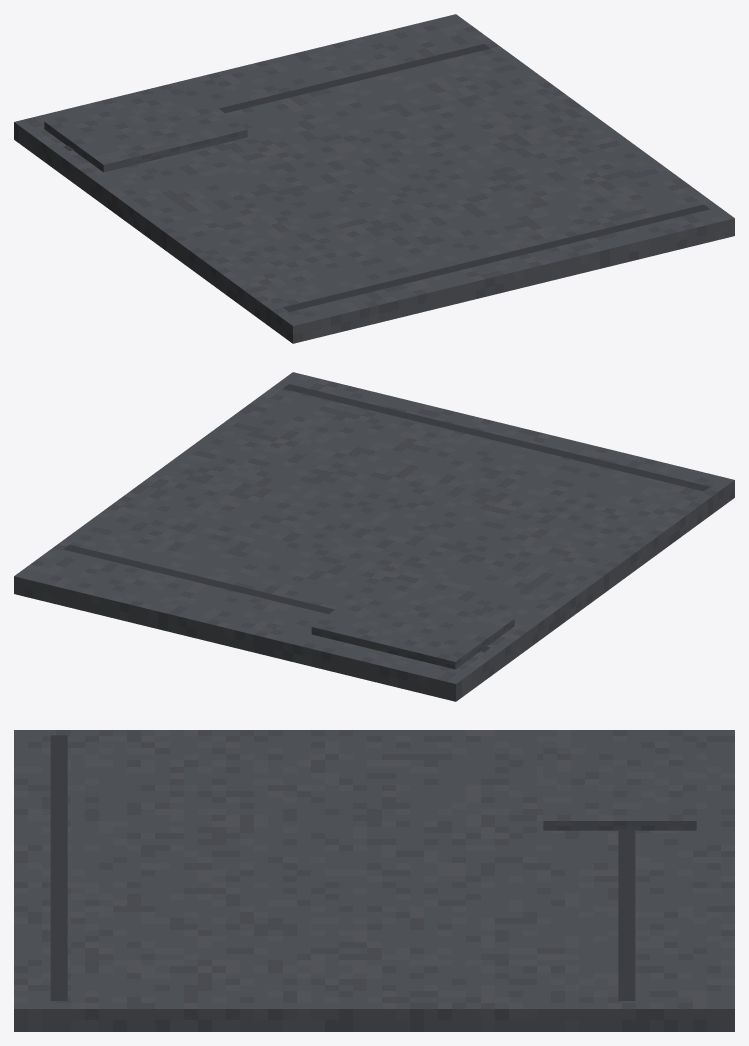
File: scrap_felt.glb
3 views of the same model, one above another, from view 1: azimuth 30°, elevation 25°; view 2: azimuth 150°, elevation 25°; view 3: azimuth 270°, elevation 25° (orthographic). The views are drawn at different scales.
Visible parts, largest first — view 1: block_flat stock, block_folded corner, block_edge crease (×2); view 2: block_flat stock, block_folded corner, block_edge crease (×2); view 3: block_flat stock, block_folded corner, block_edge crease (×2).
Part boxes in pixels (<box>): block_flat stock: <box>14,14,734,343</box>; block_folded corner: <box>44,86,247,172</box>; block_edge crease (×2): <box>63,44,709,311</box>; block_flat stock: <box>14,372,734,701</box>; block_folded corner: <box>311,583,514,669</box>; block_edge crease (×2): <box>63,384,709,652</box>; block_flat stock: <box>14,730,734,1031</box>; block_folded corner: <box>543,730,696,830</box>; block_edge crease (×2): <box>50,735,635,1000</box>.
Size of the model in its own units: 0.0493 by 0.00269 by 0.0539.
Materials: 1 (1 with a texture image).
